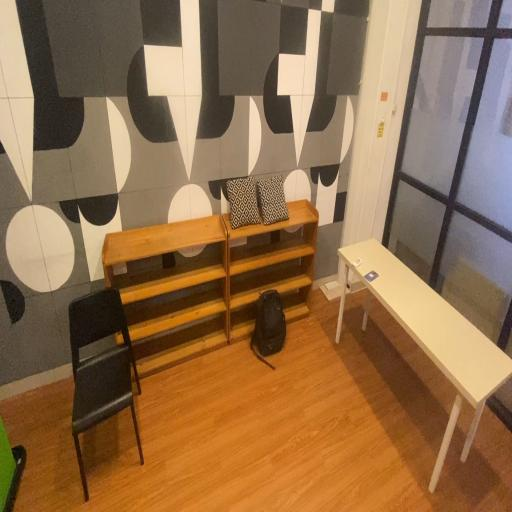bantal: (225, 171, 264, 233), (257, 170, 293, 228)
hp: (365, 260, 380, 289)
kursi: (62, 281, 154, 506)
lemari: (99, 208, 230, 393), (219, 192, 323, 344)
meja: (334, 234, 512, 499)
remote AC: (350, 250, 364, 271)
tas ransel: (246, 281, 290, 378)
